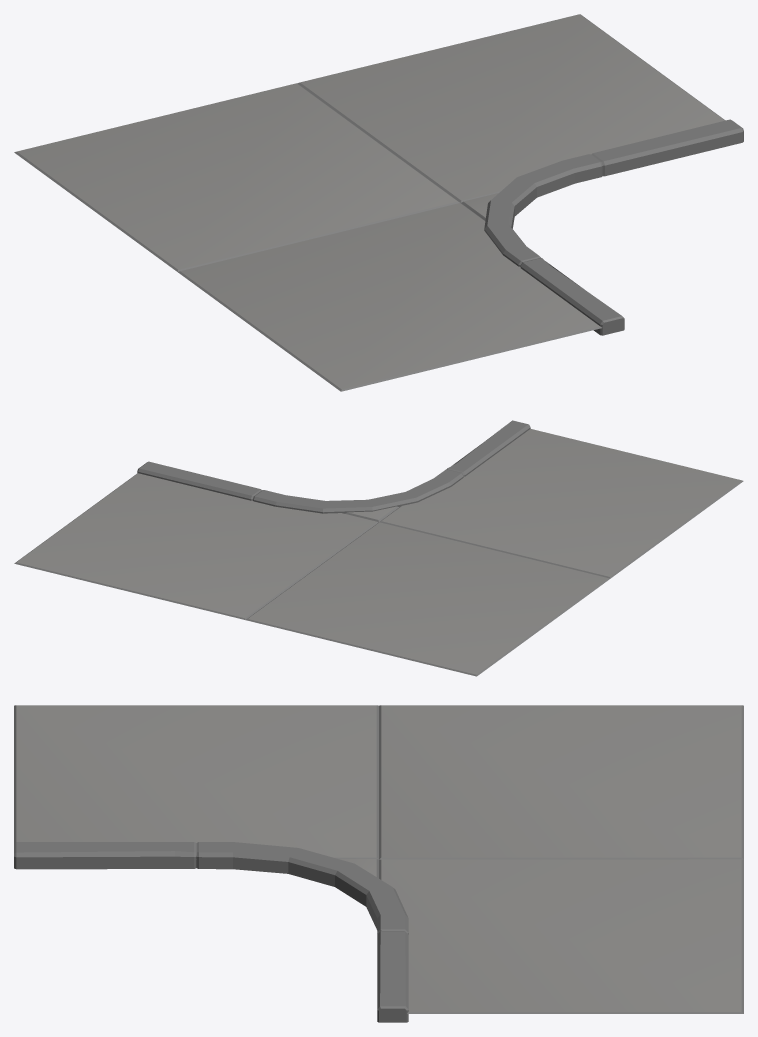
Rendered from SM_Envr_Road_Sidewalk_Corner_Out_02.fbx.
3 renders of one model, top to bottom at view 1: azimuth 30°, elevation 25°; view 2: azimuth 150°, elevation 25°; view 3: azimuth 270°, elevation 25°, orthographic. The views are drawn at different scales.
Parts seen in each view (by area): view 1: SM_Envr_Road_Sidewalk_Corner_Out_02; view 2: SM_Envr_Road_Sidewalk_Corner_Out_02; view 3: SM_Envr_Road_Sidewalk_Corner_Out_02.
Boxes of the visible parts, left/top/right/bottom form: SM_Envr_Road_Sidewalk_Corner_Out_02: left=14, top=14, right=743, bottom=391; SM_Envr_Road_Sidewalk_Corner_Out_02: left=14, top=420, right=743, bottom=676; SM_Envr_Road_Sidewalk_Corner_Out_02: left=14, top=705, right=743, bottom=1022.
Bounding box in the file's own units: 1000 × 23.32 × 1000.
